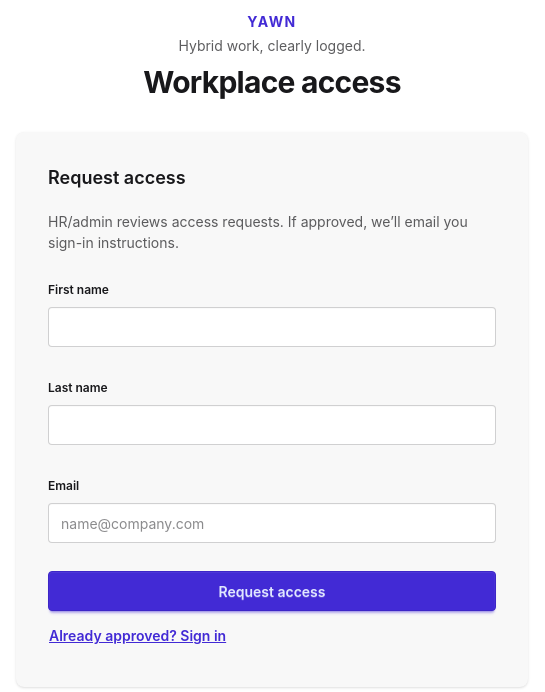
Test: Home › starts with native-validated access request and generic confirmation
Click the button "Request access".
click(272, 591)  # box [48,571,496,611]
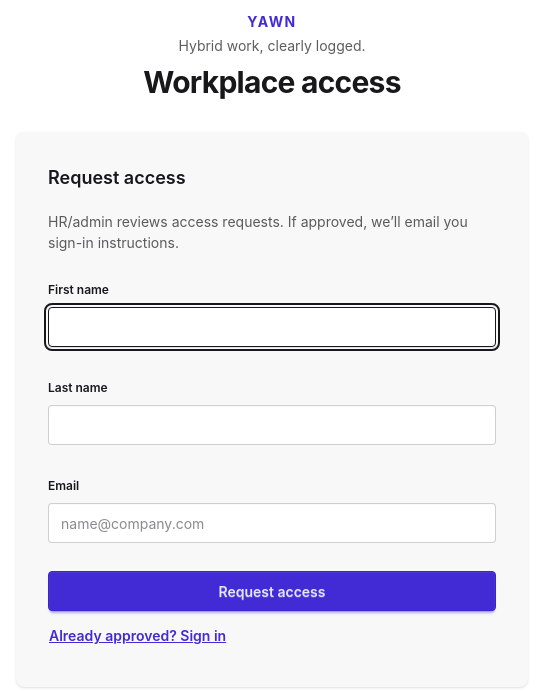
Type " Ada " into the field named "First name".
click(272, 327); type(" Ada ")  # box [48,307,496,347]
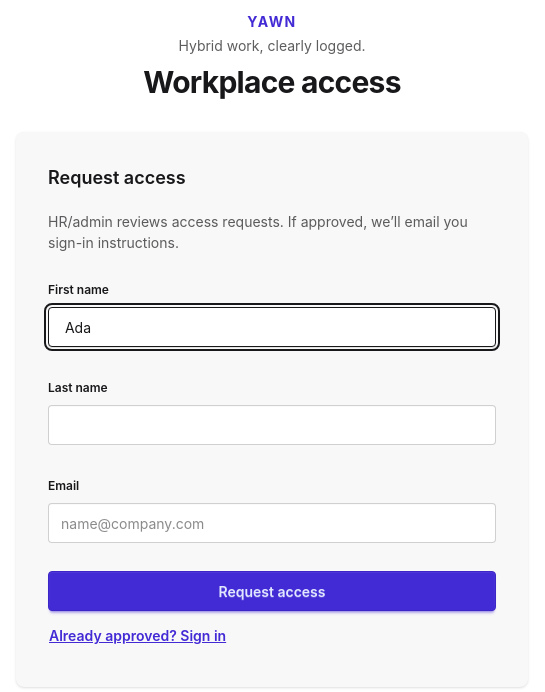
Type " Lovelace " into the field named "Last name".
click(272, 425); type(" Lovelace ")  # box [48,405,496,445]
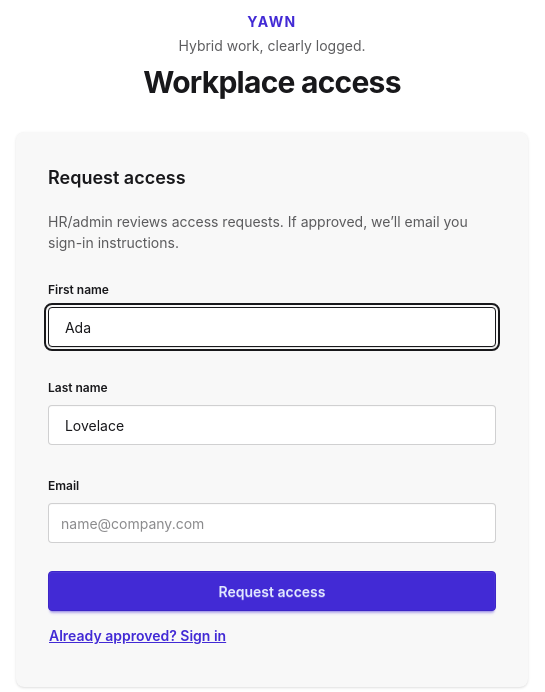
Type "ADA@EXAMPLE.COM" into the field named "Email".
click(272, 523); type("ADA@EXAMPLE.COM")  # box [48,503,496,543]
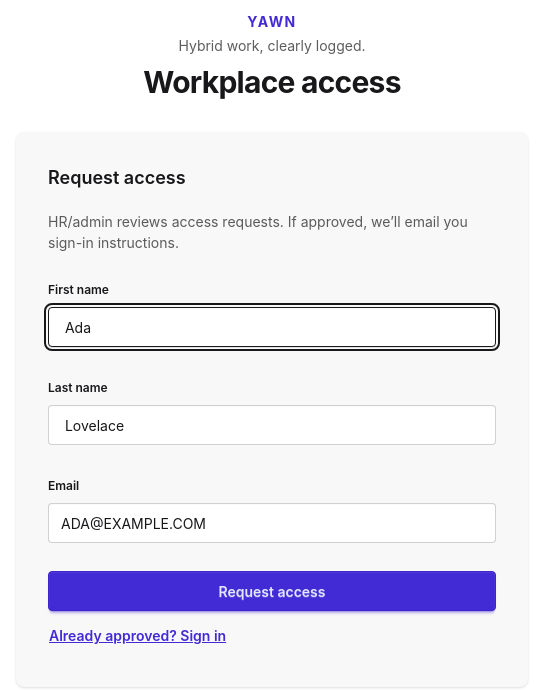
Click the button "Request access".
click(272, 591)  # box [48,571,496,611]
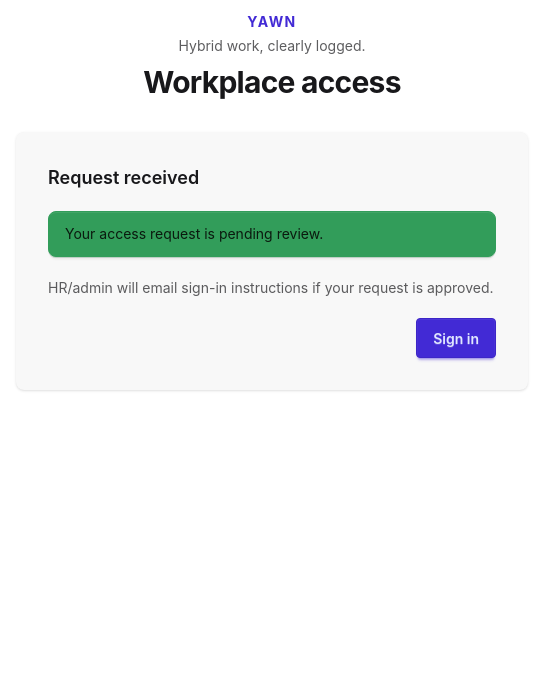
Check: the heading "Request received" is shown, box [48,167,199,188]
Check: the text "Your access request is pending review." is shown, box [65,224,323,244]
